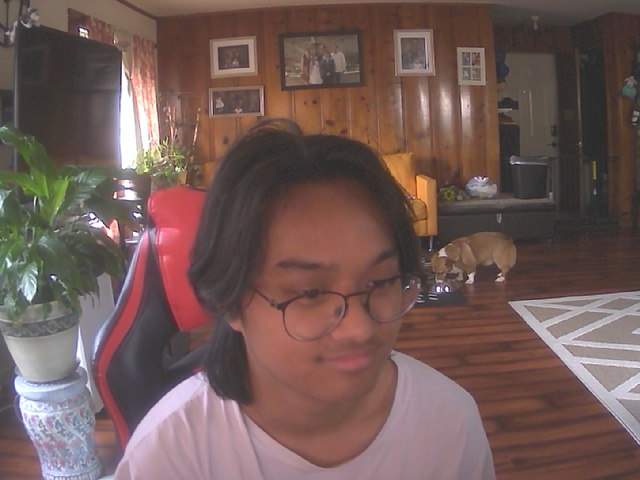happy: (217, 147, 426, 412)
